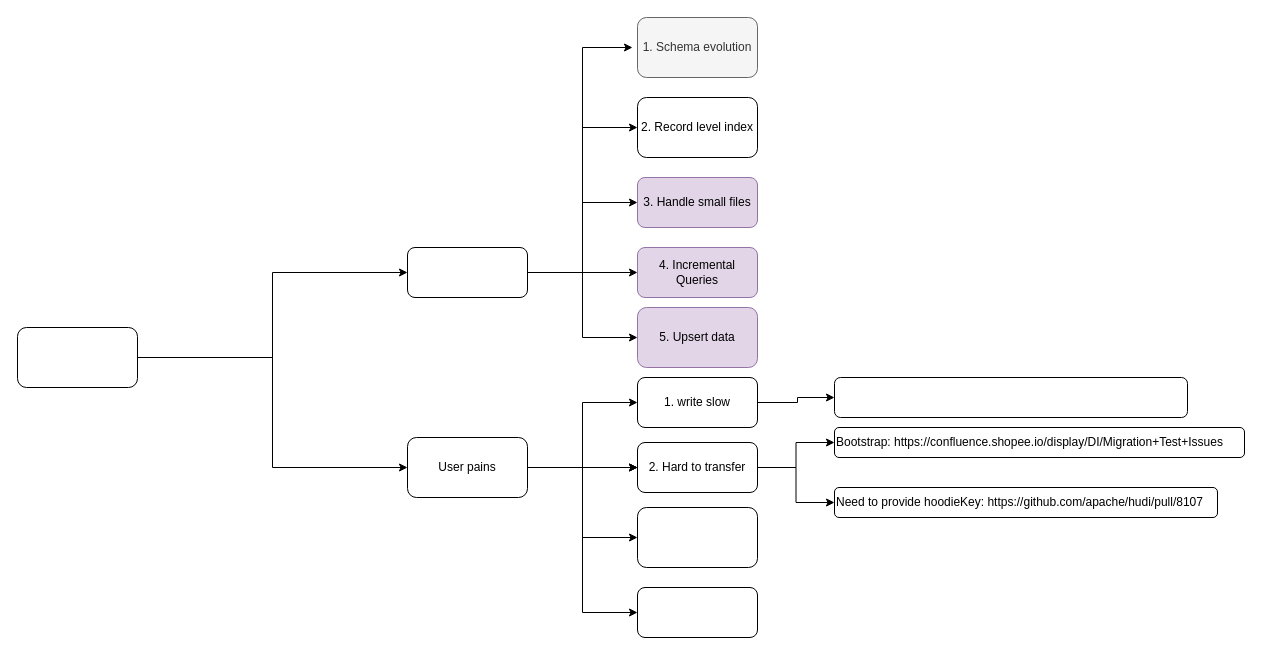
The diagram is 1262 pixels wide and 655 high, and some of its shapes have lost their labels. Each missing label, with the centre of its shape:
"3. Static resource" goes at (x=697, y=537).
"4. Clean/Clustering" goes at (x=697, y=612).
"HUDI capability" goes at (x=467, y=272).
"HUDI roadmap" goes at (x=77, y=357).
"Spark own Writer: https://github.com/apache/hudi/pull/5629" goes at (x=1011, y=397).
